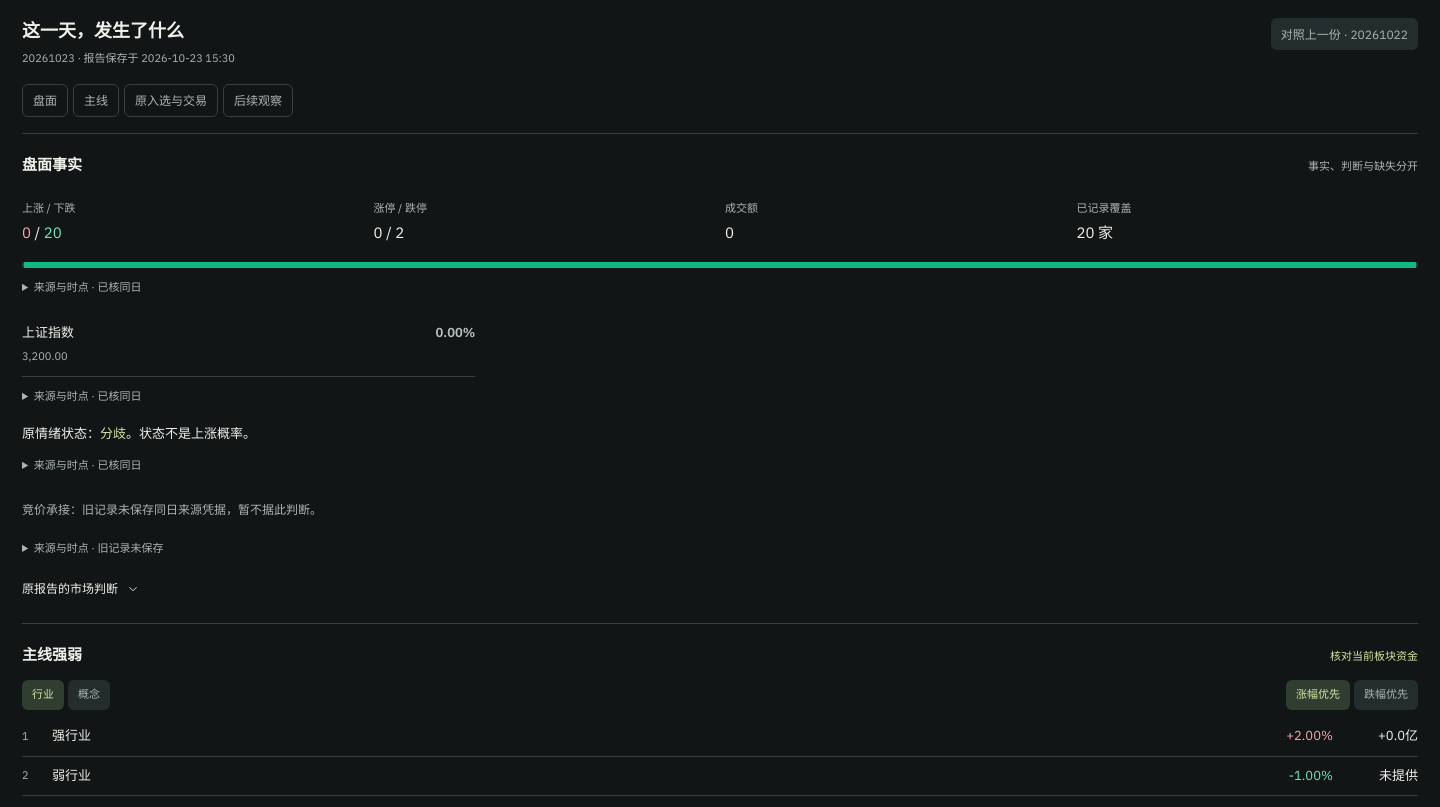
it: market review dated evidence › loads comparison only on request and refuses a different returned date
Click the button "对照上一份 · 20261022".
click(1344, 34)  # box left=1271, top=18, right=1418, bottom=50
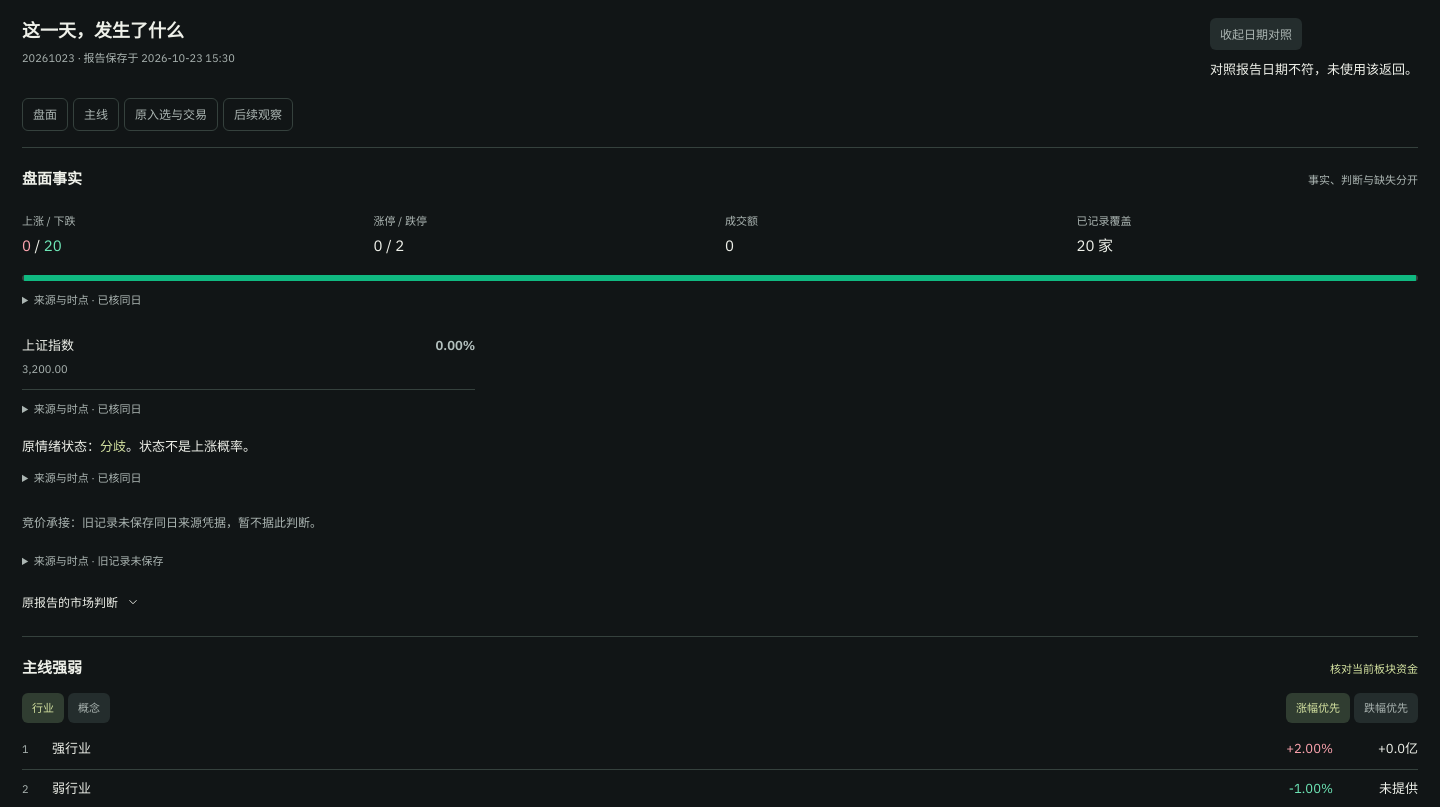
Check: the message reads "对照报告日期不符，未使用该返回。", box left=1210, top=61, right=1418, bottom=78
